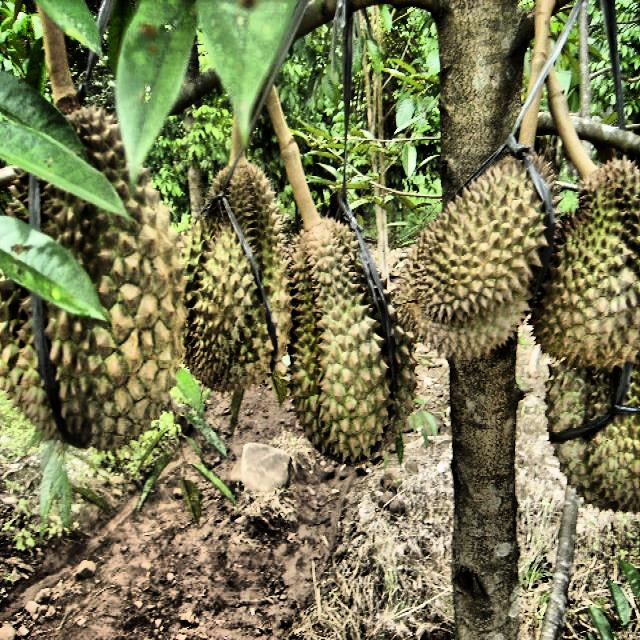arvore: (398, 0, 538, 640)
